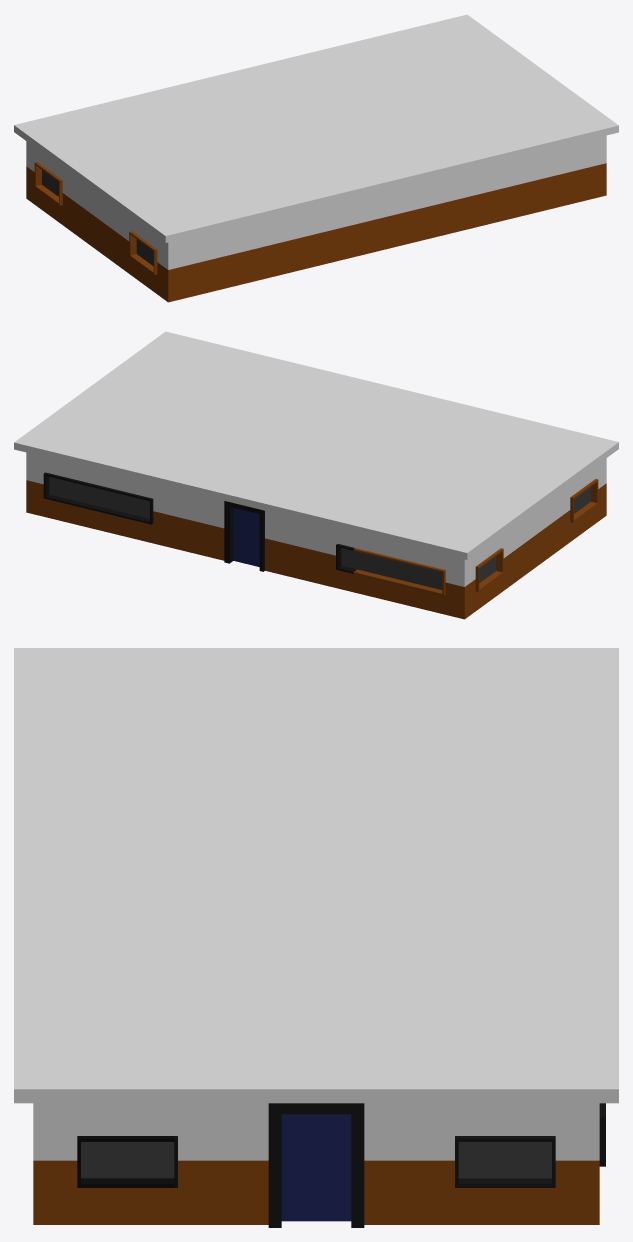
Rendered from small_office.fbx.
3 views of the same model, one above another, from view 1: azimuth 30°, elevation 25°; view 2: azimuth 150°, elevation 25°; view 3: azimuth 270°, elevation 25° (orthographic). The views are drawn at different scales.
Visible parts, largest first — view 1: small_office; view 2: small_office; view 3: small_office.
Part boxes in pixels (left/top/right/bottom): small_office: left=14, top=14, right=618, bottom=302; small_office: left=14, top=331, right=618, bottom=619; small_office: left=14, top=648, right=618, bottom=1227.
Bounding box in the file's own units: 1638 × 248 × 949.
